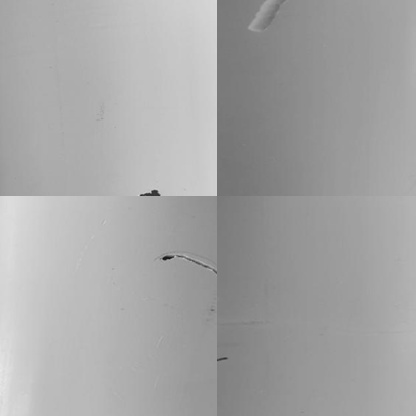fengxi: (155, 250, 218, 279)
kongdong: (139, 185, 162, 196)
sunshang: (245, 1, 288, 36)
